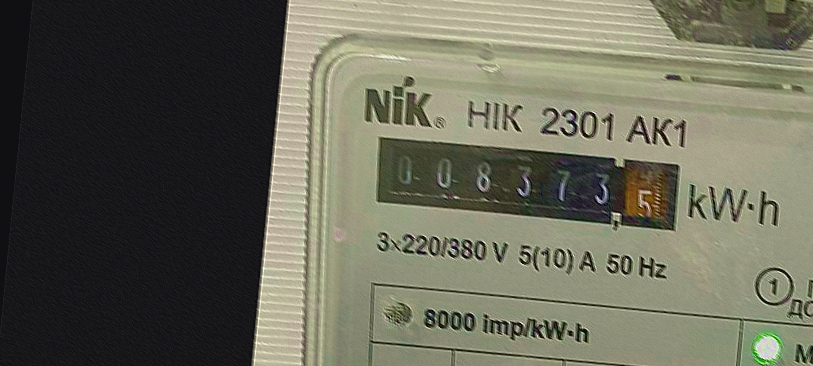0: (394, 150, 418, 188), (434, 153, 456, 191)
3: (590, 169, 616, 208), (513, 161, 537, 200)
4: (637, 165, 657, 187)
5: (635, 186, 657, 218)
7: (552, 164, 574, 205)
8: (473, 157, 497, 195)
screen: (367, 127, 691, 245)
